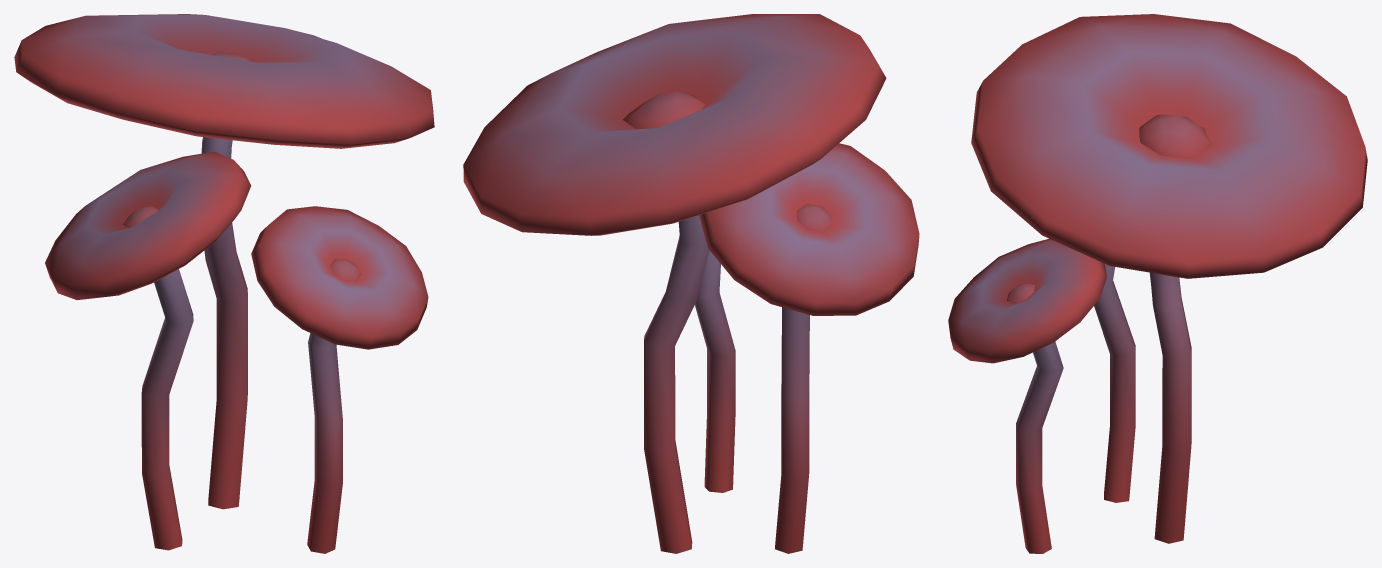
Rendered from Plants_018.fbx.
The picture shows the model from 3 angles, left to right: view 1: azimuth 30°, elevation 25°; view 2: azimuth 150°, elevation 25°; view 3: azimuth 270°, elevation 25°; orthographic projection. The views are drawn at different scales.
Parts seen in each view (by area): view 1: Plants.018; view 2: Plants.018; view 3: Plants.018.
Boxes of the visible parts, x1,y1,x2,y2 form: Plants.018: [14, 14, 434, 553]; Plants.018: [463, 14, 919, 553]; Plants.018: [948, 14, 1367, 553].
Size of the model in its own units: 463 by 578 by 480.
